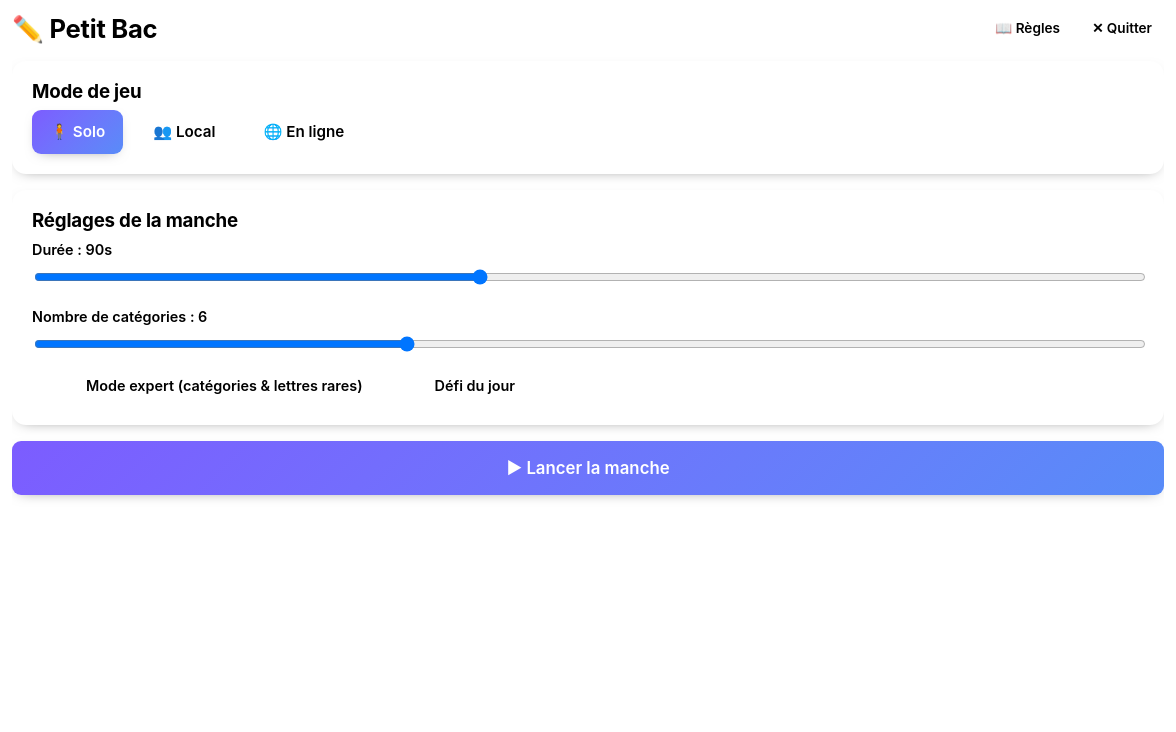
Test: PetitBacGame integration (solo) › plays a solo round and shows results + records a score
Note: Setup screen → launch the round.
Click the button "▶ Lancer la manche": (588, 468) [12,441,1164,495]
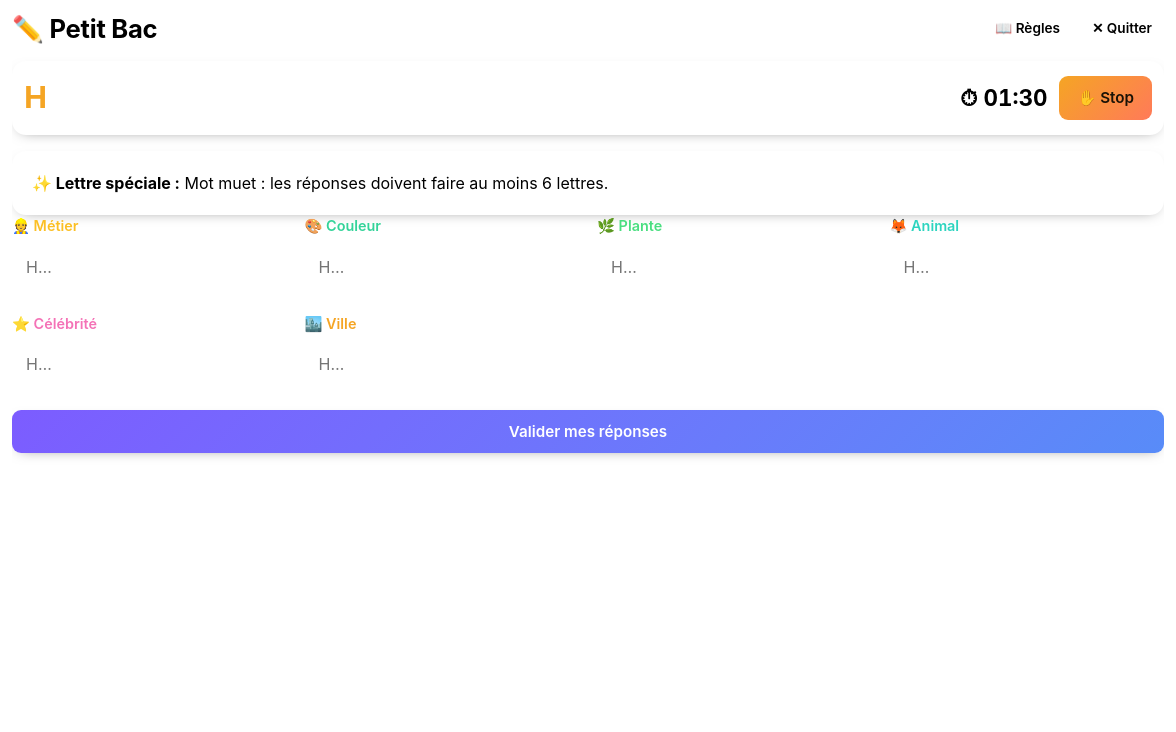
Click the button "✋ Stop": (1106, 98) [1059,76,1152,120]
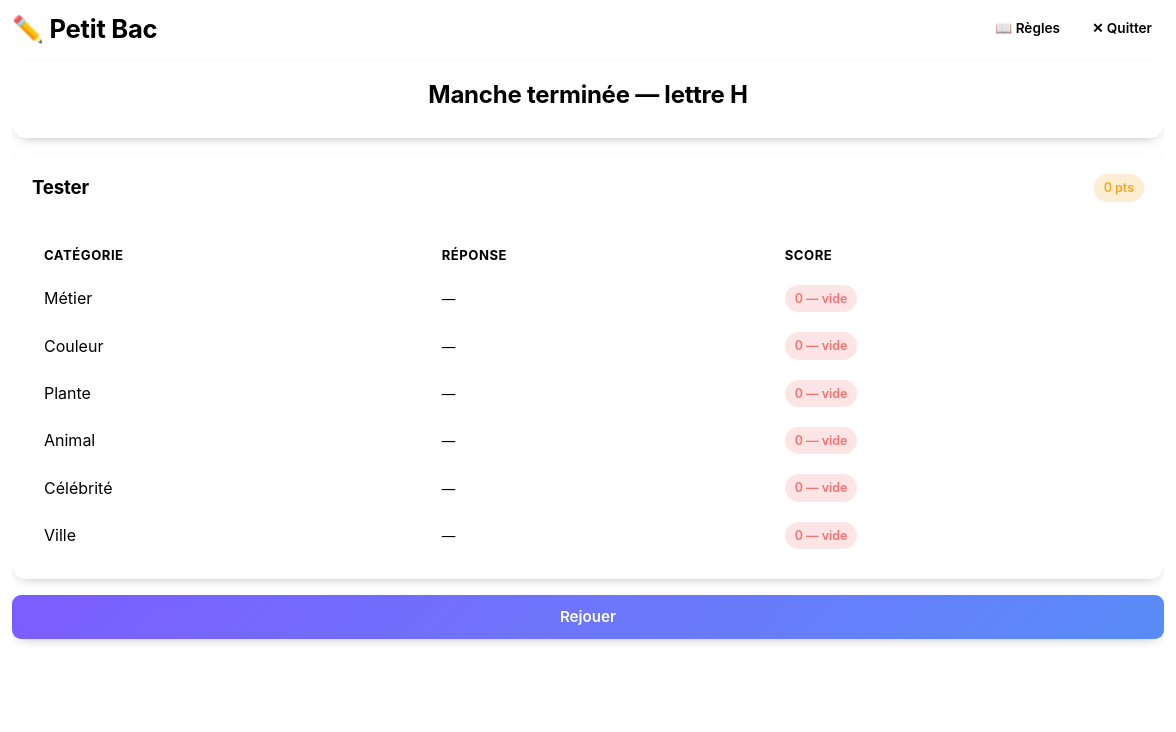
Expected: the heading "Manche terminée — lettre H" is shown, [428,80,748,109]
